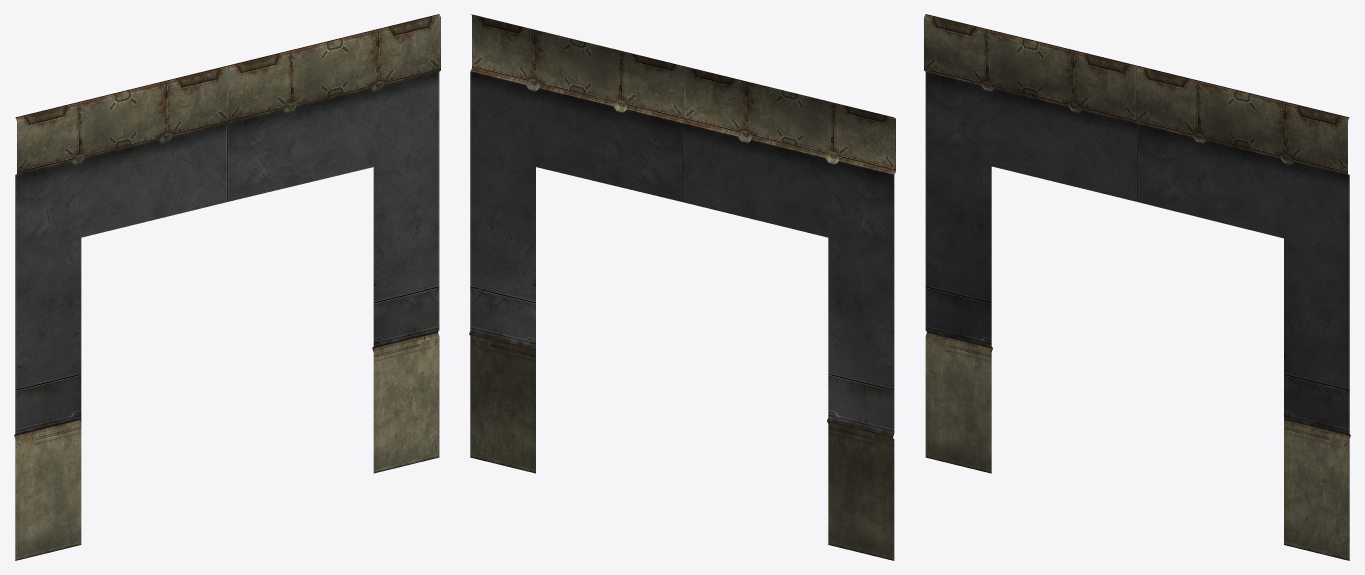
File: datasite_flat_dooway_wide.dae
The picture shows the model from 3 angles, left to right: view 1: azimuth 30°, elevation 25°; view 2: azimuth 150°, elevation 25°; view 3: azimuth 330°, elevation 25°; orthographic projection.
Parts seen in each view (by area): view 1: polySurface133; view 2: polySurface133; view 3: polySurface133.
Part boxes in pixels (x1,y1,x2,y2): polySurface133: [14, 14, 440, 560]; polySurface133: [469, 14, 895, 560]; polySurface133: [924, 14, 1350, 560].
Size of the model in its own units: 4 by 4 by 0.0483.
